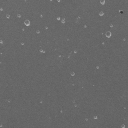corrosion: (23, 18, 31, 27), (105, 30, 112, 39), (98, 9, 105, 17), (59, 18, 67, 24), (70, 70, 76, 78), (39, 48, 45, 54), (35, 28, 41, 34), (118, 9, 124, 15), (17, 13, 22, 19), (95, 64, 100, 70), (6, 12, 10, 19), (73, 49, 78, 54), (100, 1, 106, 5), (56, 16, 60, 21), (93, 115, 97, 120), (20, 42, 24, 46)
